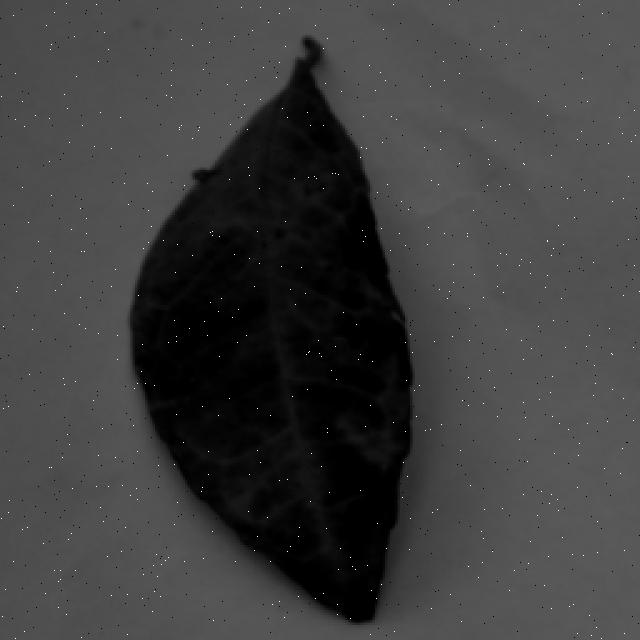blackspot: (114, 25, 456, 622)
